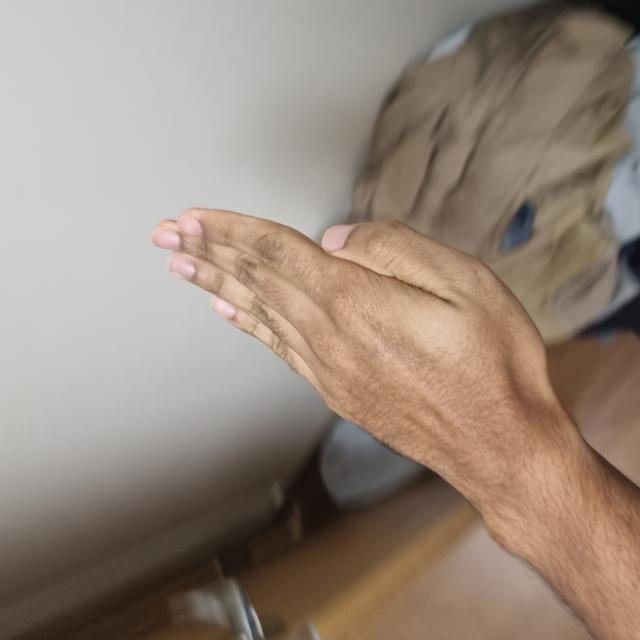Paper: (150, 302, 419, 543)
